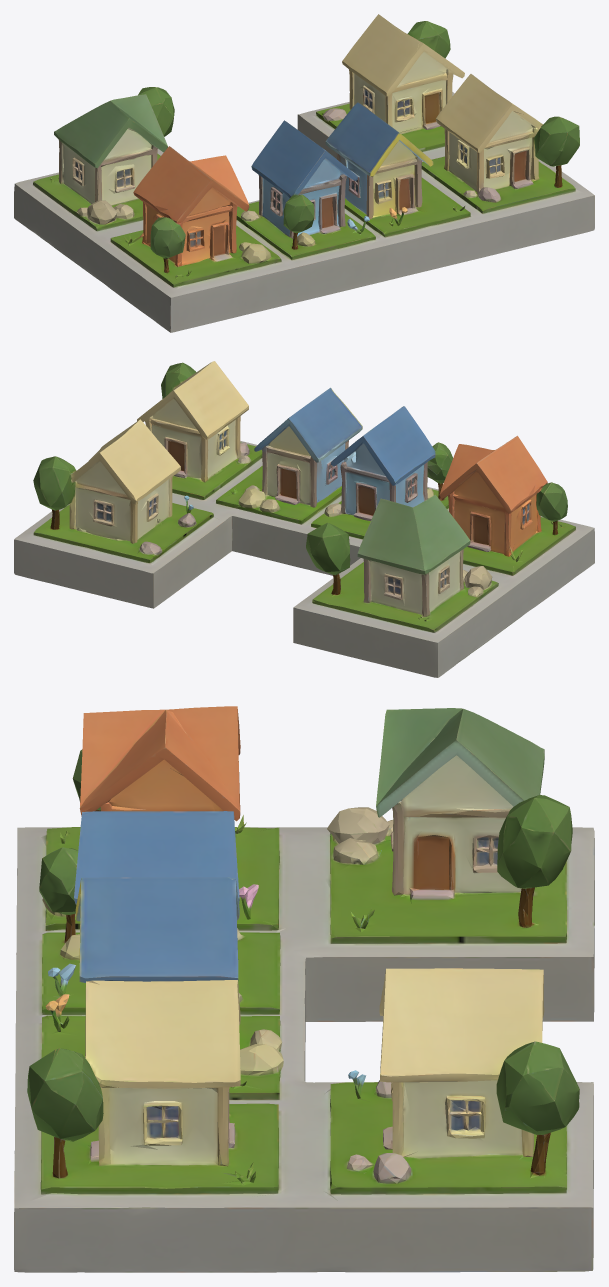
The model's file is residence_03.fbx.
3 renders of one model, top to bottom at view 1: azimuth 30°, elevation 25°; view 2: azimuth 150°, elevation 25°; view 3: azimuth 270°, elevation 25°, orthographic. The views are drawn at different scales.
Visible parts, largest first — view 1: model; view 2: model; view 3: model.
Part boxes in pixels (left/top/right/bottom): model: left=14, top=14, right=594, bottom=332; model: left=14, top=361, right=594, bottom=677; model: left=14, top=706, right=594, bottom=1272.
Bounding box in the file's own units: 189 × 56.18 × 122.
1 material, 1 textured.
